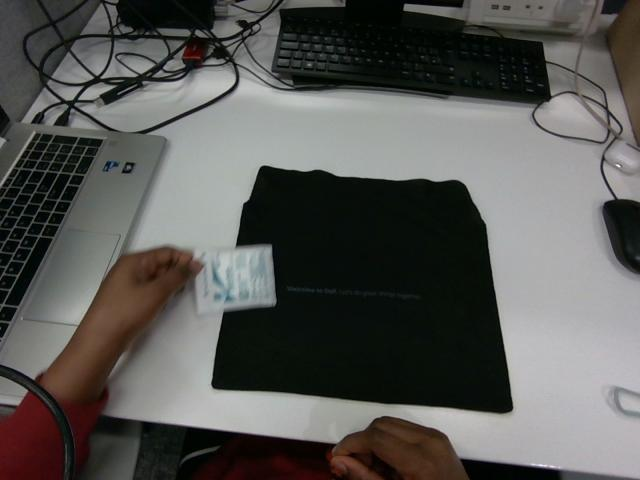gauze: (195, 245, 276, 313)
